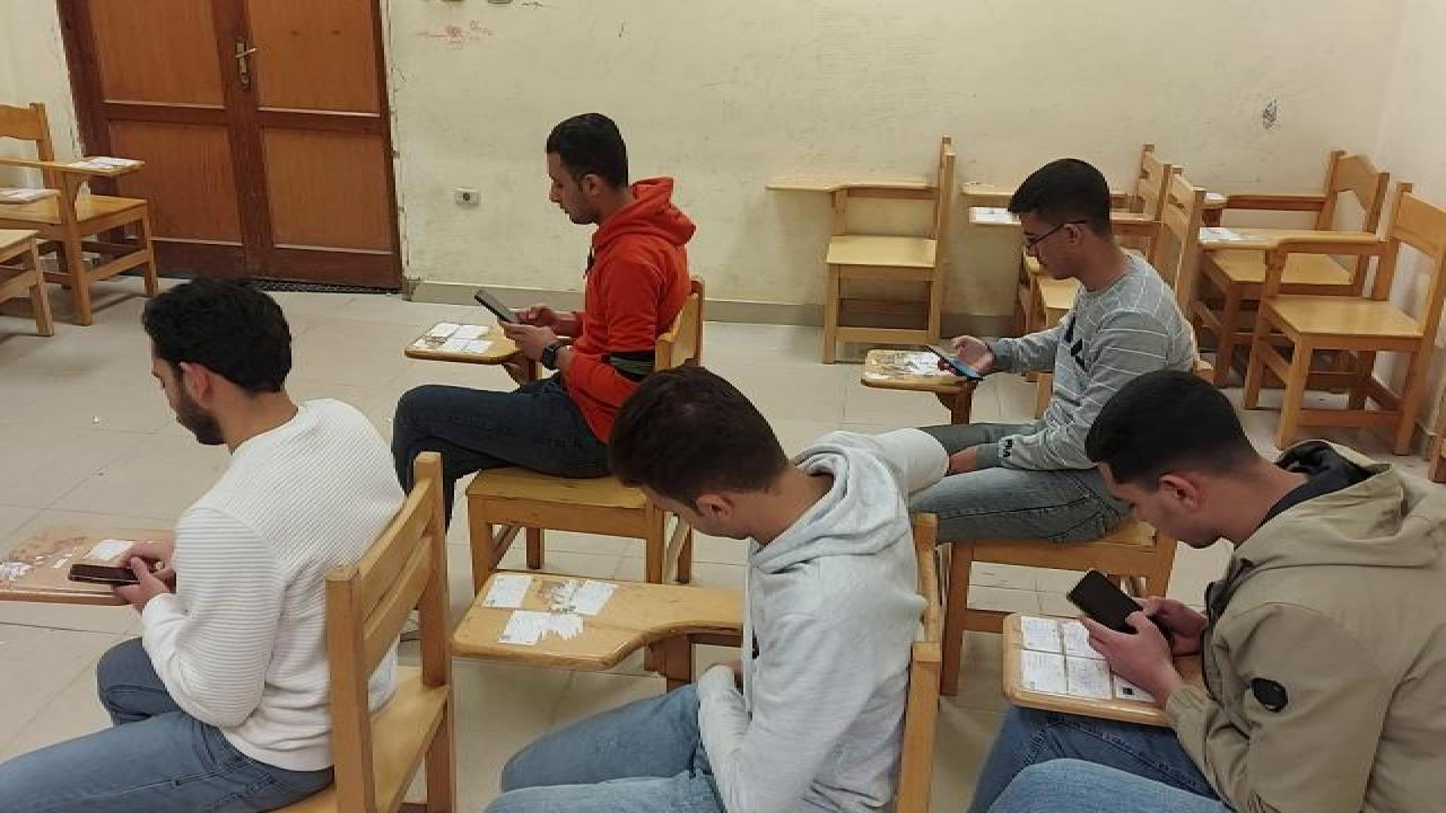phone: (1064, 567, 1168, 641), (64, 559, 157, 591), (471, 286, 528, 330), (923, 340, 984, 381)
